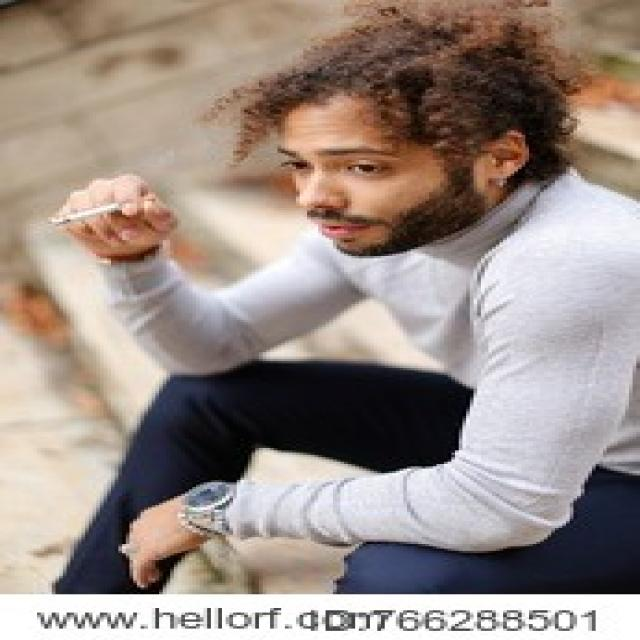smoke: (43, 190, 164, 230)
